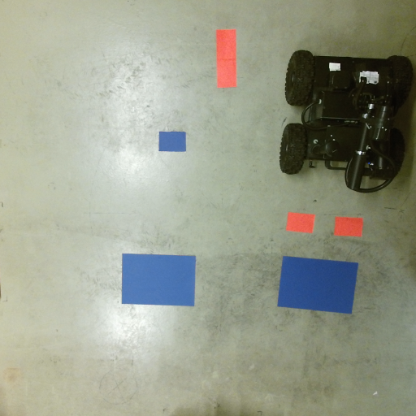Blue: (277, 255, 358, 315), (121, 253, 194, 306), (157, 130, 188, 153)
Jaguar: (278, 49, 412, 196)
Red: (214, 30, 239, 90), (332, 215, 366, 238), (284, 212, 315, 233)
